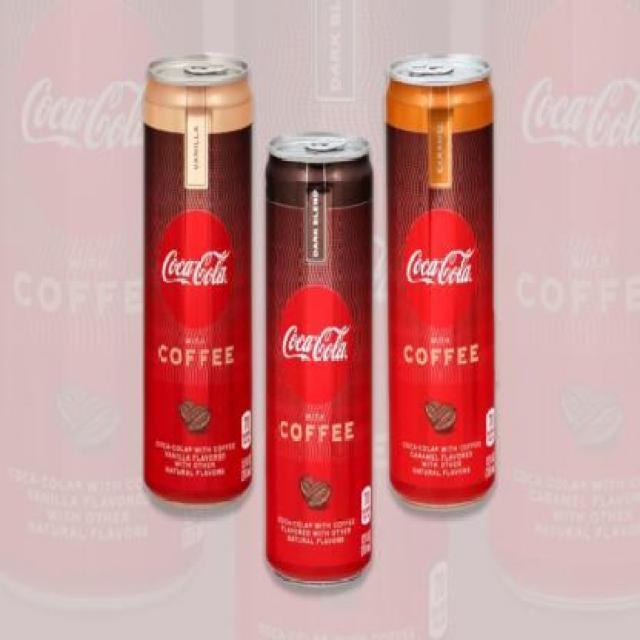Coke: (380, 52, 500, 517), (141, 52, 257, 516), (264, 130, 376, 592)
